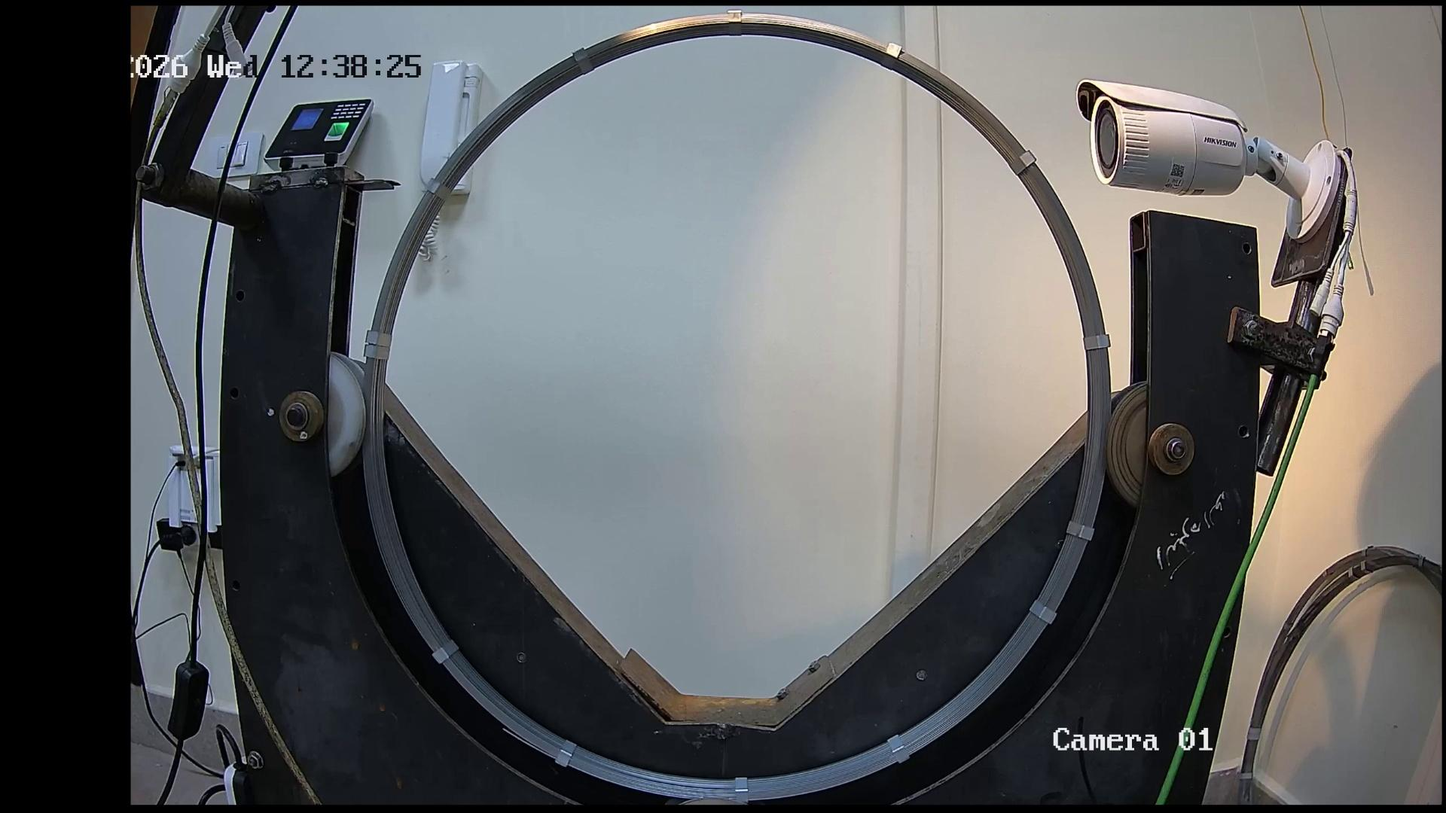clamp: (1008, 150, 1037, 176), (887, 734, 910, 764), (424, 178, 451, 203), (1029, 600, 1056, 625), (571, 46, 594, 75), (432, 640, 459, 664), (555, 739, 577, 767), (880, 43, 902, 70), (1066, 521, 1094, 542), (1082, 332, 1111, 351), (364, 329, 392, 348), (727, 8, 743, 37), (364, 344, 390, 361), (735, 776, 749, 804)
